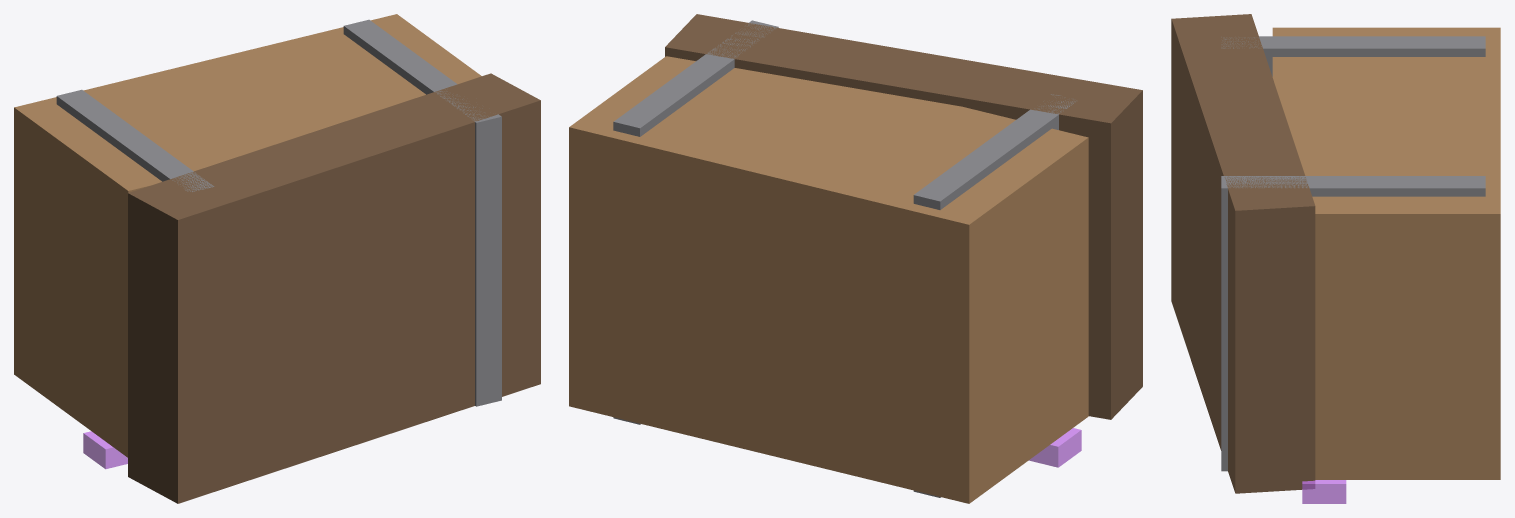
File: loot_chest_locked.glb
3 renders of one model, left to right at view 1: azimuth 30°, elevation 25°; view 2: azimuth 150°, elevation 25°; view 3: azimuth 270°, elevation 25°, orthographic. The views are drawn at different scales.
Visible parts, largest first — view 1: lid, chest_body, side_band_r, side_band_l, front_band; view 2: chest_body, lid, side_band_l, side_band_r, front_band; view 3: chest_body, lid, side_band_r, side_band_l, front_band.
Part boxes in pixels (box(x1,y1,x2,y2)): lid: box(128, 73, 540, 503); chest_body: box(14, 14, 481, 457); side_band_r: box(343, 19, 501, 406); side_band_l: box(56, 89, 214, 191); front_band: box(83, 431, 127, 469); chest_body: box(569, 56, 1088, 503); lid: box(665, 14, 1142, 419); side_band_l: box(913, 94, 1076, 497); side_band_r: box(613, 20, 778, 424); front_band: box(1029, 428, 1081, 467); chest_body: box(1272, 27, 1500, 479); lid: box(1171, 14, 1315, 493); side_band_r: box(1221, 176, 1485, 471); side_band_l: box(1221, 36, 1485, 76); front_band: box(1302, 480, 1346, 503).
Bounding box in the file's own units: 1.27 × 0.9421 × 0.8959.
